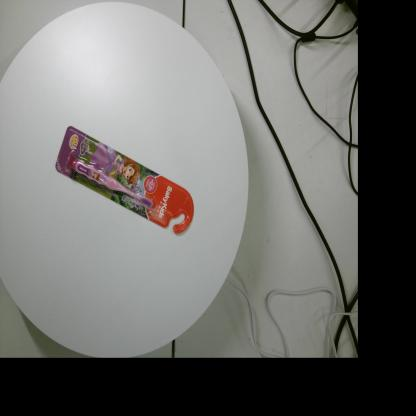Personal Hygiene: (55, 126, 194, 234)
